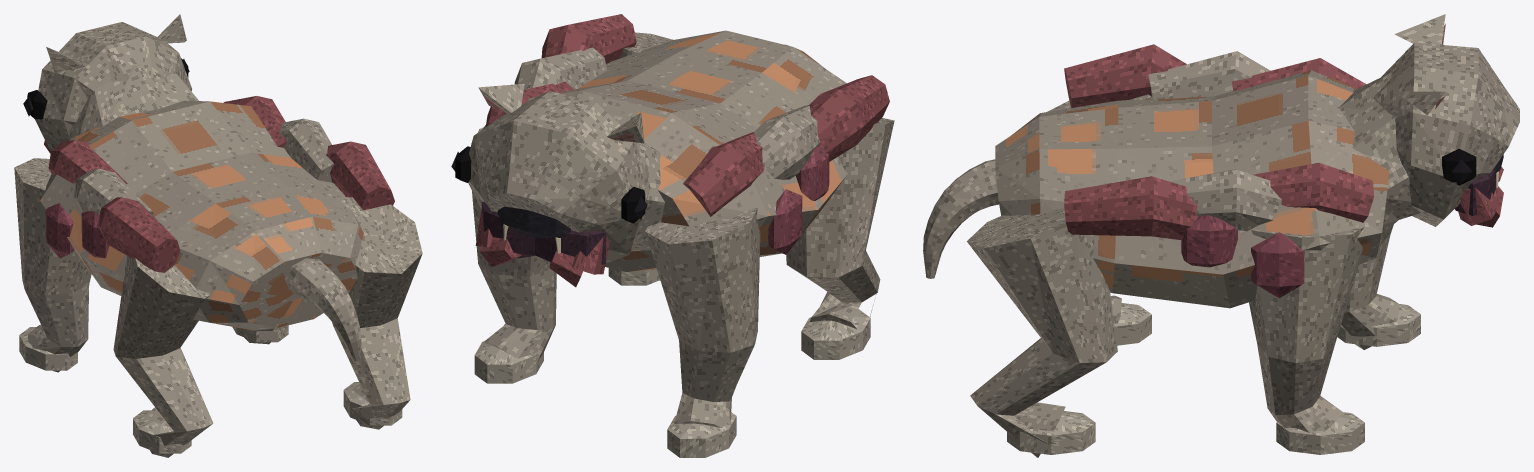
File: mon_dog_zombie_hulk.glb
3 renders of one model, left to right at view 1: azimuth 30°, elevation 25°; view 2: azimuth 150°, elevation 25°; view 3: azimuth 270°, elevation 25°, orthographic. The views are drawn at different scales.
Visible parts, largest first — view 1: closed_body; view 2: closed_body; view 3: closed_body.
Part boxes in pixels (x1=…): closed_body: x1=14, y1=14, x2=422, y2=457; closed_body: x1=451, y1=14, x2=894, y2=457; closed_body: x1=923, y1=14, x2=1519, y2=457.
Bounding box in the file's own units: 1.32 × 1.37 × 2.12.
1 material, 1 textured.
